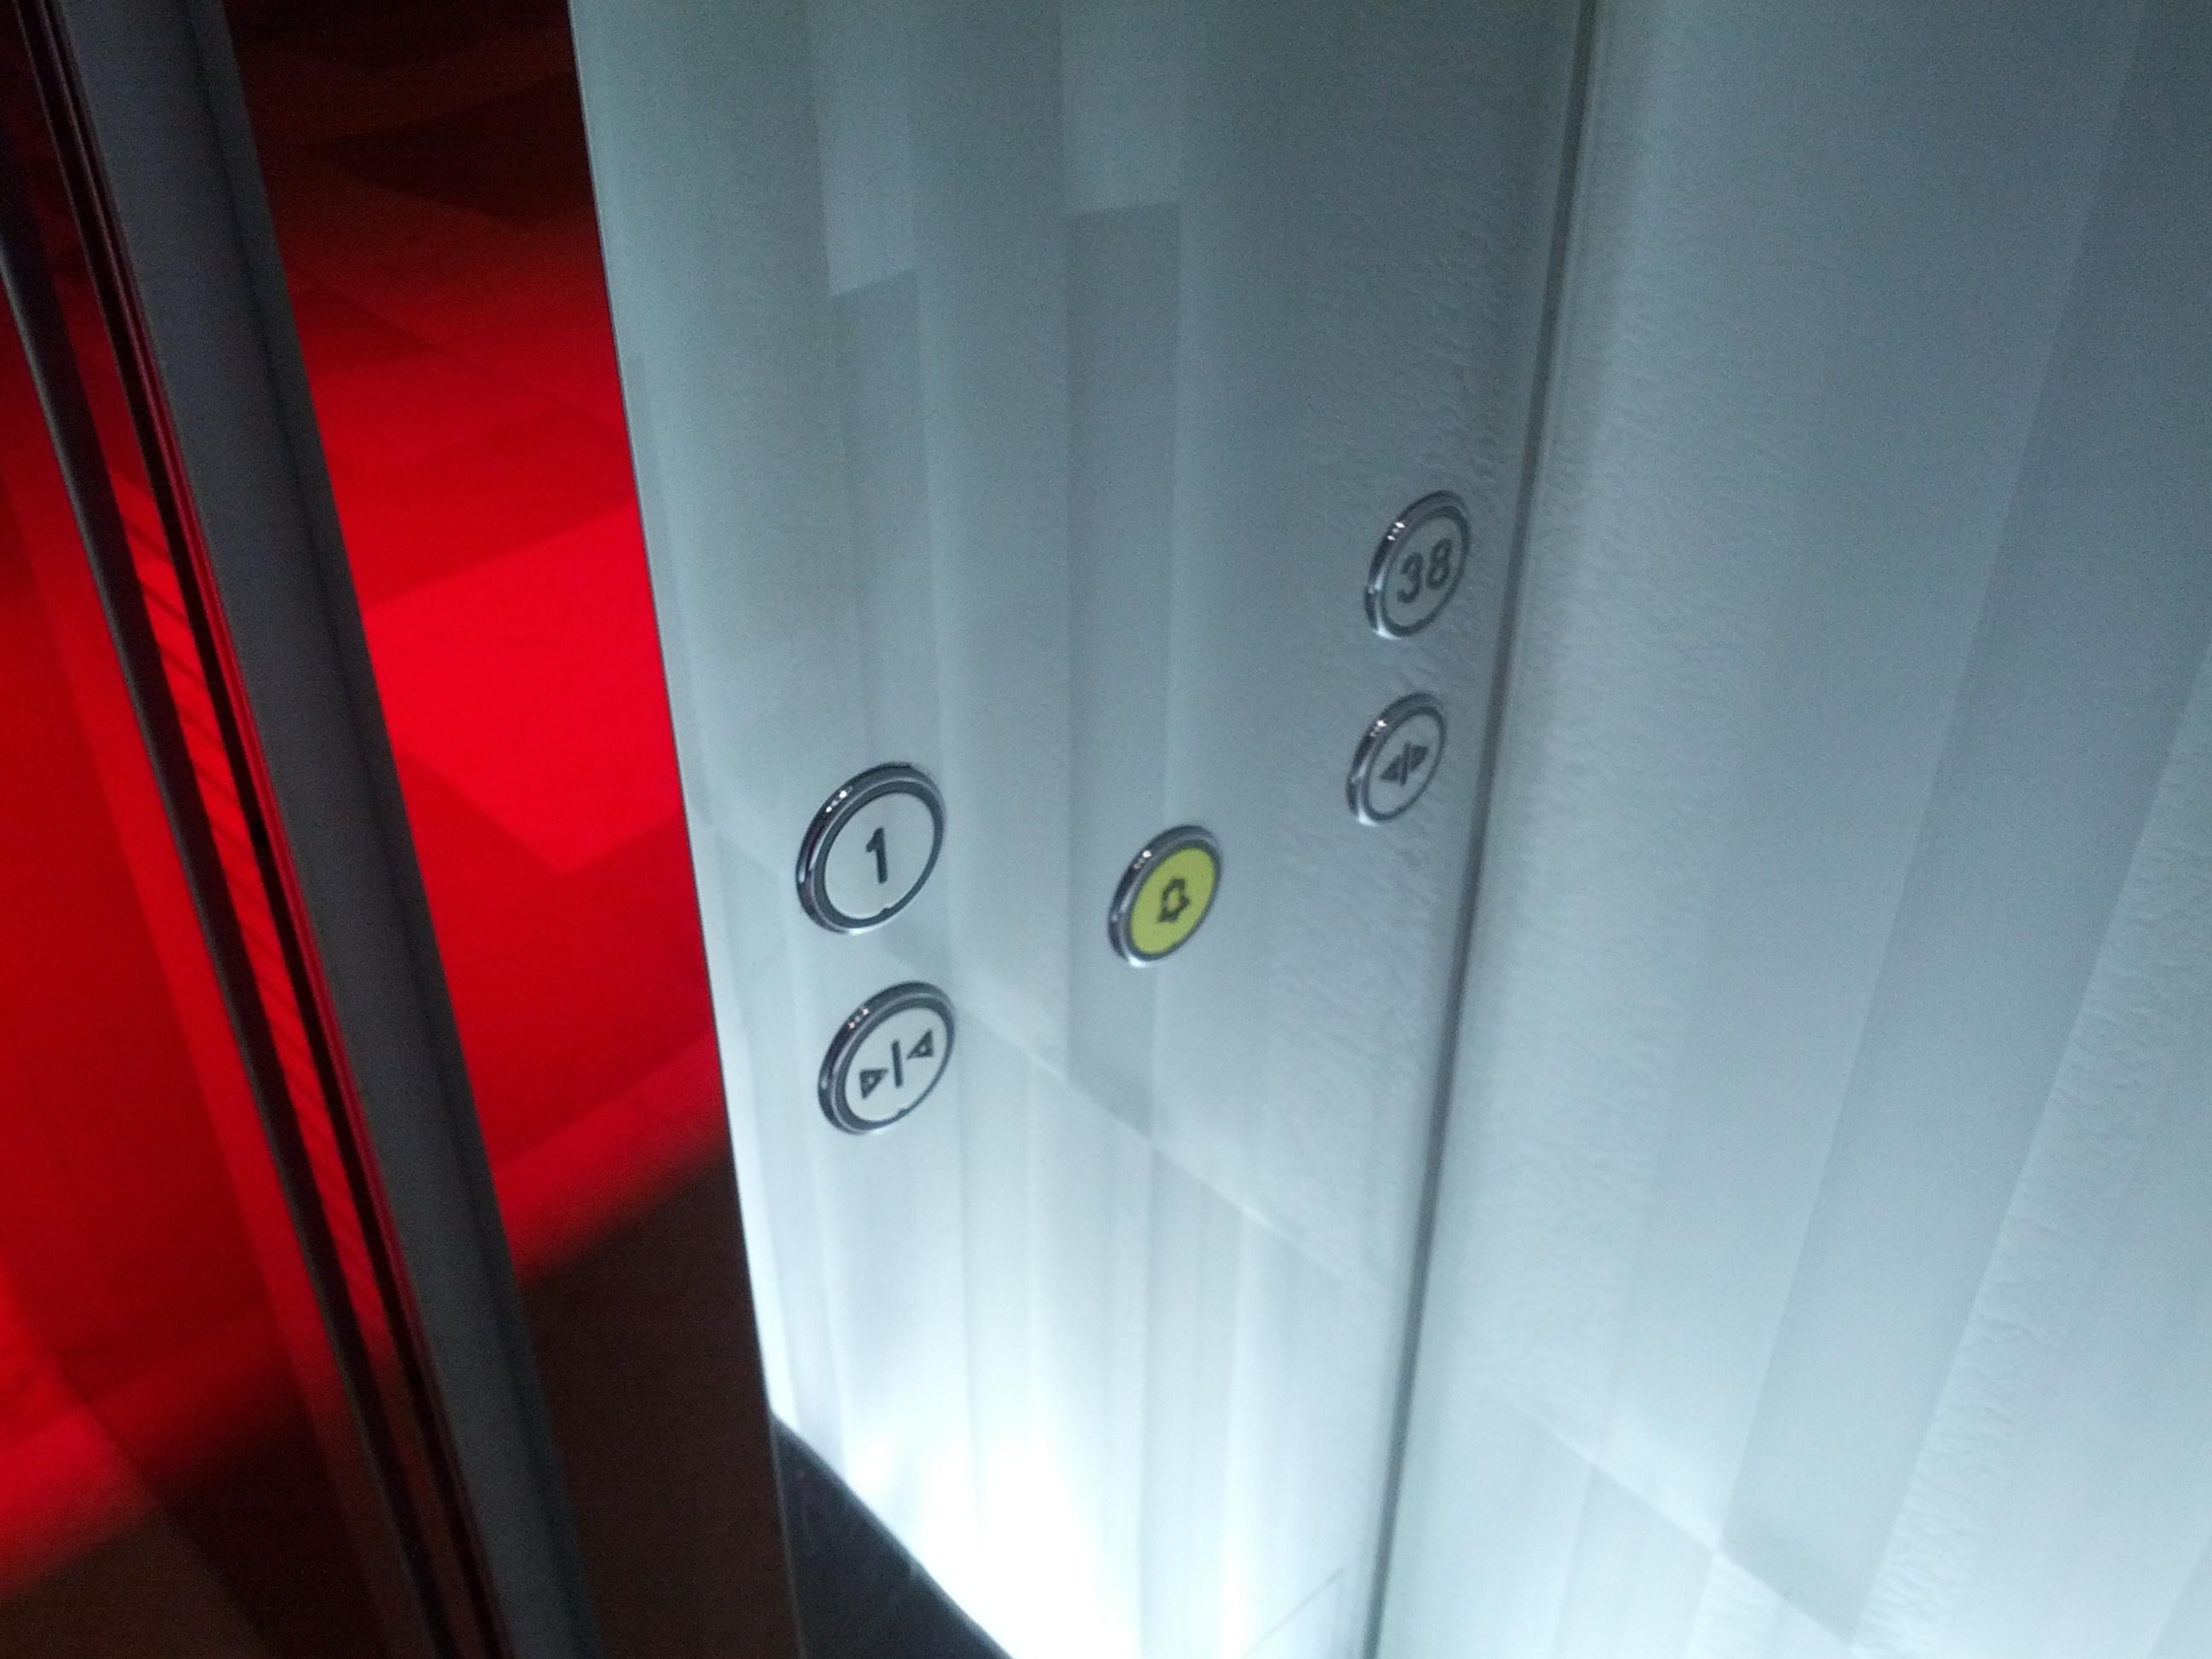1: (798, 758, 949, 936)
38: (1366, 491, 1470, 641)
alarm: (1104, 823, 1226, 969)
close: (817, 985, 956, 1136)
open: (1346, 694, 1447, 823)
